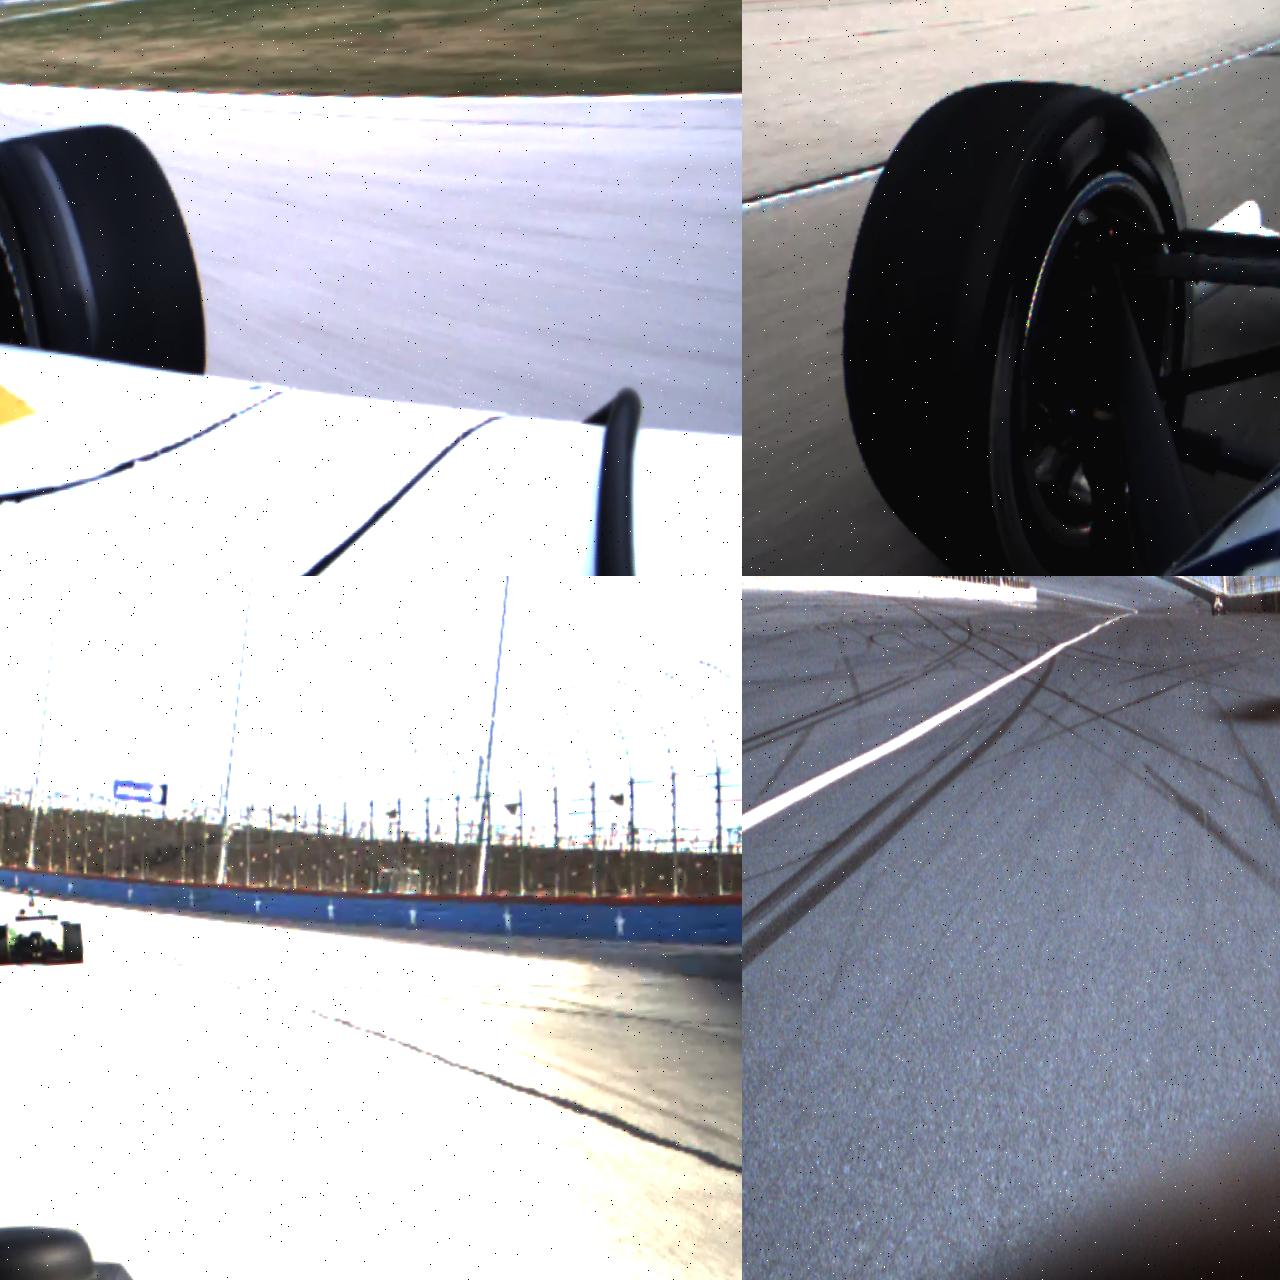AV: (0, 884, 84, 971), (1211, 595, 1226, 615)
Wheel: (824, 68, 1214, 576), (0, 118, 207, 392), (63, 922, 84, 964), (0, 922, 11, 966), (1223, 602, 1226, 614), (1212, 605, 1214, 615)
